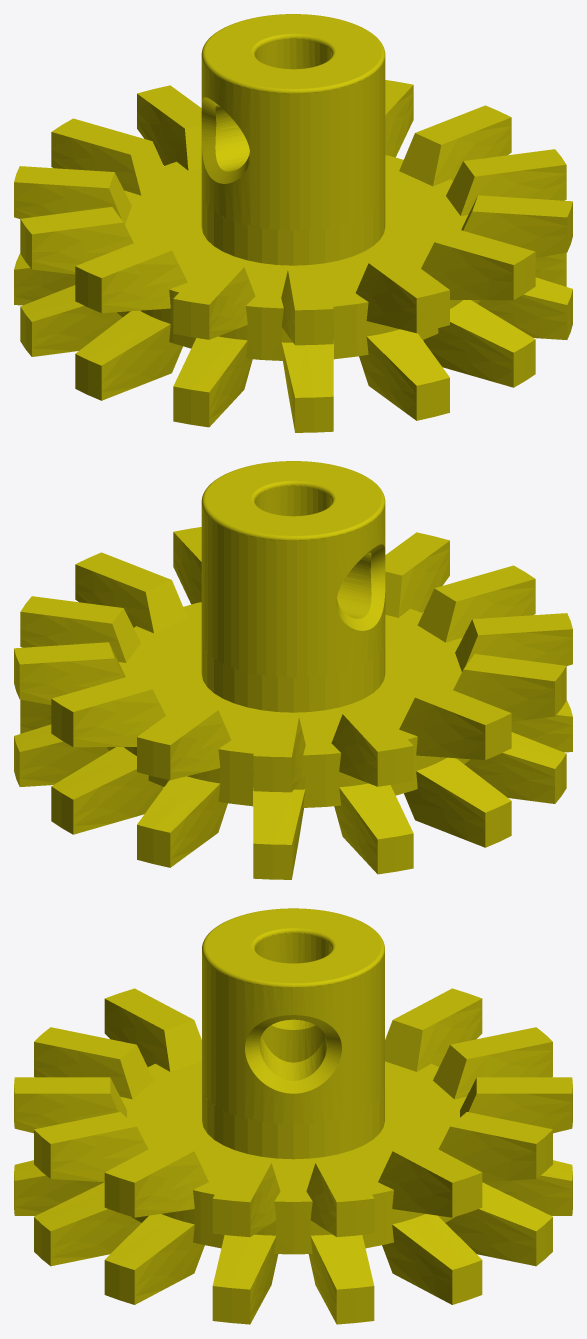
Rendered from Multi_Purpose_Gear.glb.
The picture shows the model from 3 angles, top to bottom: view 1: azimuth 30°, elevation 25°; view 2: azimuth 150°, elevation 25°; view 3: azimuth 270°, elevation 25°; orthographic projection.
Visible parts, largest first — view 1: defaultobject.001; view 2: defaultobject.001; view 3: defaultobject.001.
Boxes of the visible parts, x1=… form: defaultobject.001: x1=14, y1=14, x2=572, y2=432; defaultobject.001: x1=14, y1=461, x2=572, y2=879; defaultobject.001: x1=14, y1=908, x2=572, y2=1324.
Bounding box in the file's own units: 71.34 × 37.35 × 72.21.
